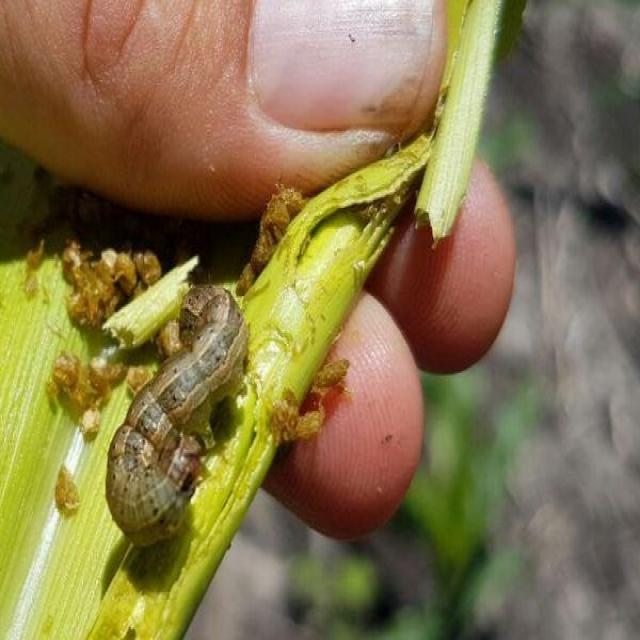army worm: (104, 275, 262, 560)
